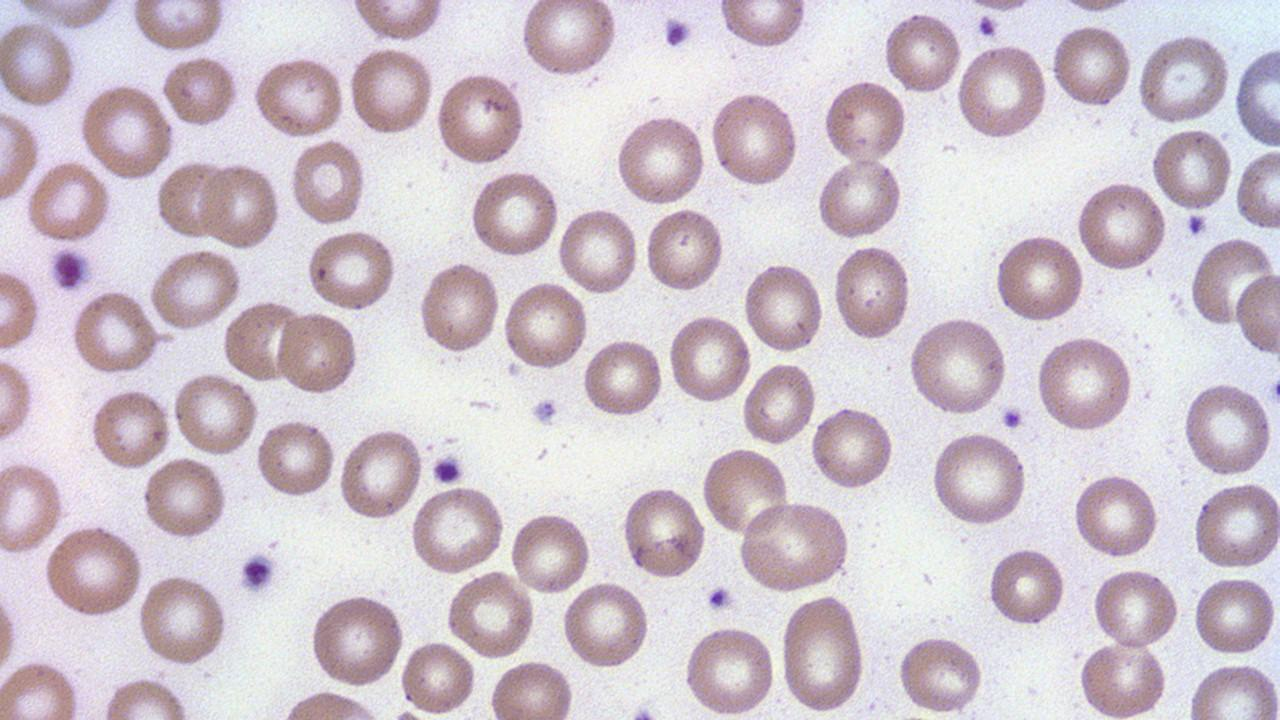Platelets: (237, 550, 278, 596), (49, 248, 92, 291), (430, 452, 467, 488), (529, 397, 562, 428), (661, 16, 691, 50), (998, 403, 1025, 430), (976, 13, 999, 39), (1185, 210, 1207, 236), (1269, 374, 1280, 408)
RBC: (777, 591, 869, 714), (736, 498, 852, 594), (907, 313, 1008, 419), (43, 523, 146, 621), (1035, 334, 1135, 434), (928, 428, 1028, 528), (307, 590, 406, 690), (954, 41, 1049, 142), (708, 88, 800, 191), (80, 83, 175, 182), (612, 109, 707, 208), (434, 69, 528, 169), (679, 622, 779, 716), (1135, 29, 1231, 126), (408, 482, 507, 576), (1074, 176, 1168, 275), (135, 570, 228, 670), (1181, 380, 1275, 478), (992, 232, 1086, 326), (336, 424, 424, 524), (467, 168, 561, 261), (699, 444, 790, 540), (501, 277, 590, 374), (621, 482, 707, 582), (560, 578, 652, 671), (1188, 234, 1276, 331), (347, 43, 434, 140), (666, 310, 752, 408), (416, 258, 500, 358), (832, 242, 913, 345), (1192, 478, 1280, 572), (304, 226, 398, 314), (250, 53, 346, 139), (517, 2, 621, 81), (808, 401, 896, 494), (148, 246, 243, 332), (444, 570, 534, 660), (556, 203, 640, 298), (742, 259, 824, 356), (70, 288, 159, 377), (1072, 470, 1160, 560), (141, 453, 229, 542), (172, 369, 259, 459), (822, 76, 908, 167), (1189, 572, 1277, 660), (1050, 20, 1134, 112), (642, 204, 726, 296), (896, 631, 986, 716), (816, 157, 905, 242), (276, 308, 360, 398), (1150, 124, 1234, 214), (200, 159, 281, 252), (1076, 638, 1170, 718), (26, 158, 111, 245), (580, 335, 665, 422), (508, 508, 592, 596), (254, 414, 338, 502), (89, 385, 172, 474), (1089, 566, 1179, 648), (221, 298, 304, 384), (288, 138, 367, 228), (986, 543, 1067, 630), (882, 9, 962, 97), (0, 18, 76, 110), (740, 359, 818, 447), (398, 636, 478, 716), (0, 460, 65, 557), (1183, 658, 1279, 720), (161, 53, 239, 129), (486, 656, 577, 720), (155, 158, 226, 240), (128, 1, 227, 56), (1232, 42, 1280, 151), (716, 1, 810, 52), (1232, 268, 1278, 359), (348, 2, 448, 43), (0, 105, 39, 206), (1234, 146, 1280, 230), (0, 265, 44, 352), (0, 353, 34, 449)
